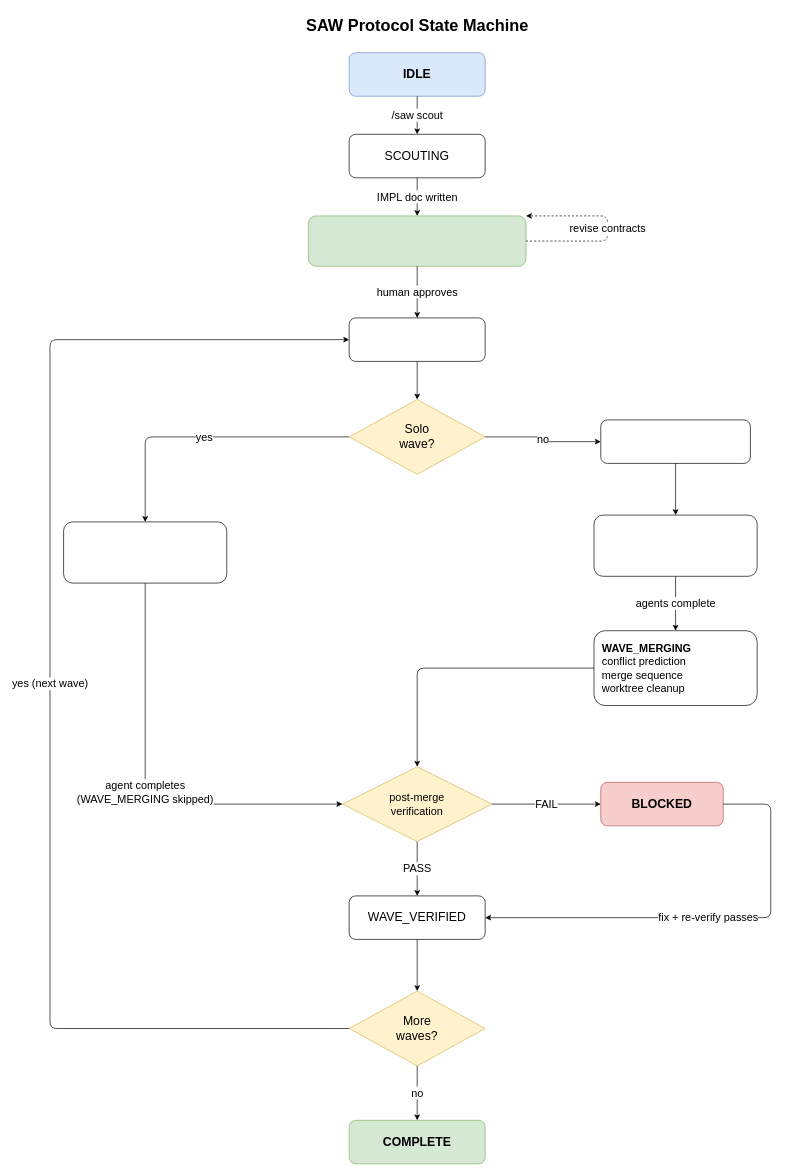
Some shapes in this 788 by 1176 pixel diagram are drawn without their labels. Each missing label, with the centre of its shape:
pre-create worktrees launch agents: (x=675, y=441)
REVIEWED interface freeze checkpoint: (x=417, y=240)
WAVE_EXECUTING agent runs on main no worktrees: (x=145, y=552)
WAVE_EXECUTING agents run in parallel in isolated worktrees: (x=675, y=545)
WAVE_PENDING: (x=416, y=339)
